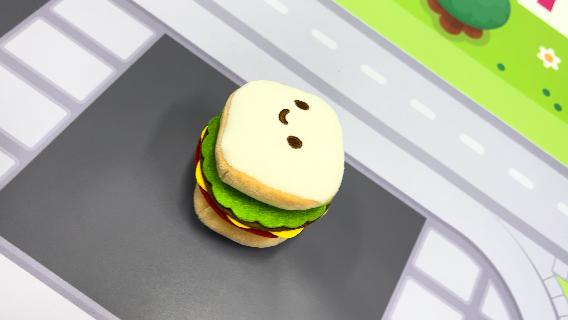sandwich: (190, 77, 347, 249)
